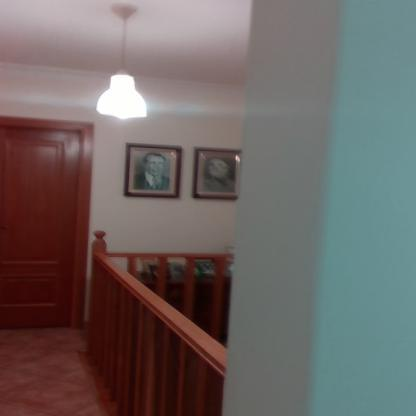door: (0, 124, 76, 327)
lever: (0, 225, 12, 232)
